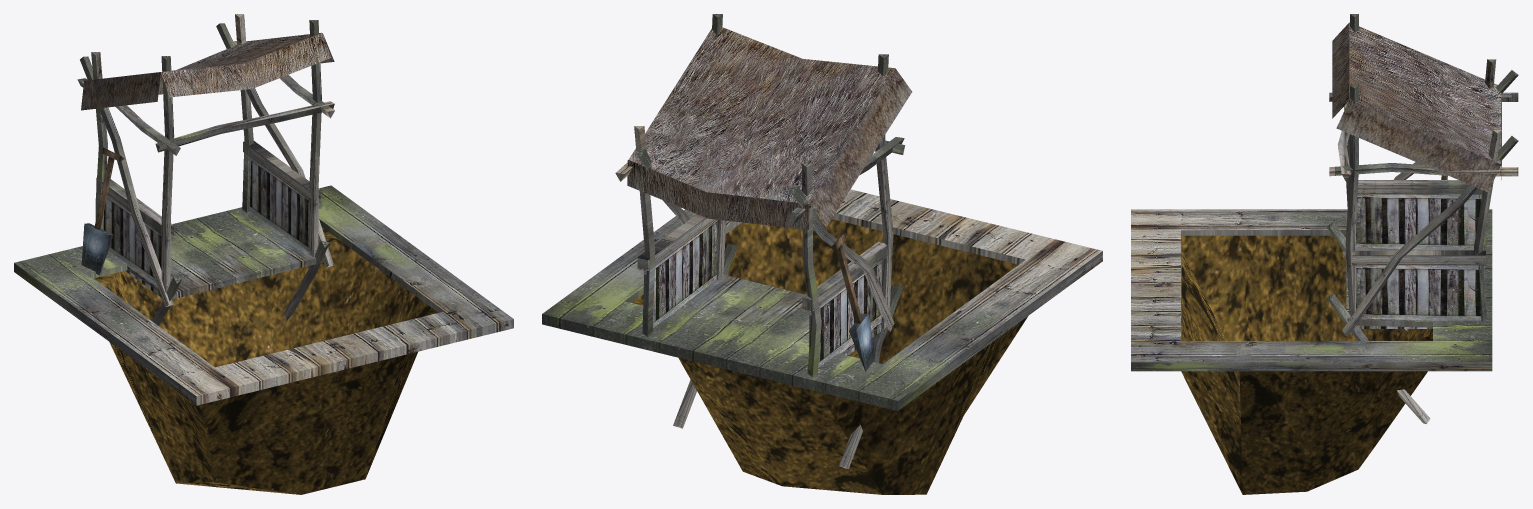
The picture shows the model from 3 angles, left to right: view 1: azimuth 30°, elevation 25°; view 2: azimuth 150°, elevation 25°; view 3: azimuth 270°, elevation 25°; orthographic projection. The views are drawn at different scales.
Parts seen in each view (by area): view 1: gong_farm.001; view 2: gong_farm.001; view 3: gong_farm.001.
Part boxes in pixels (<box>): gong_farm.001: <box>14,14,513,494</box>; gong_farm.001: <box>542,14,1102,494</box>; gong_farm.001: <box>1131,14,1518,494</box>.
Bounding box in the file's own units: 412 × 516 × 441.
Materials: 6 (6 with a texture image).
